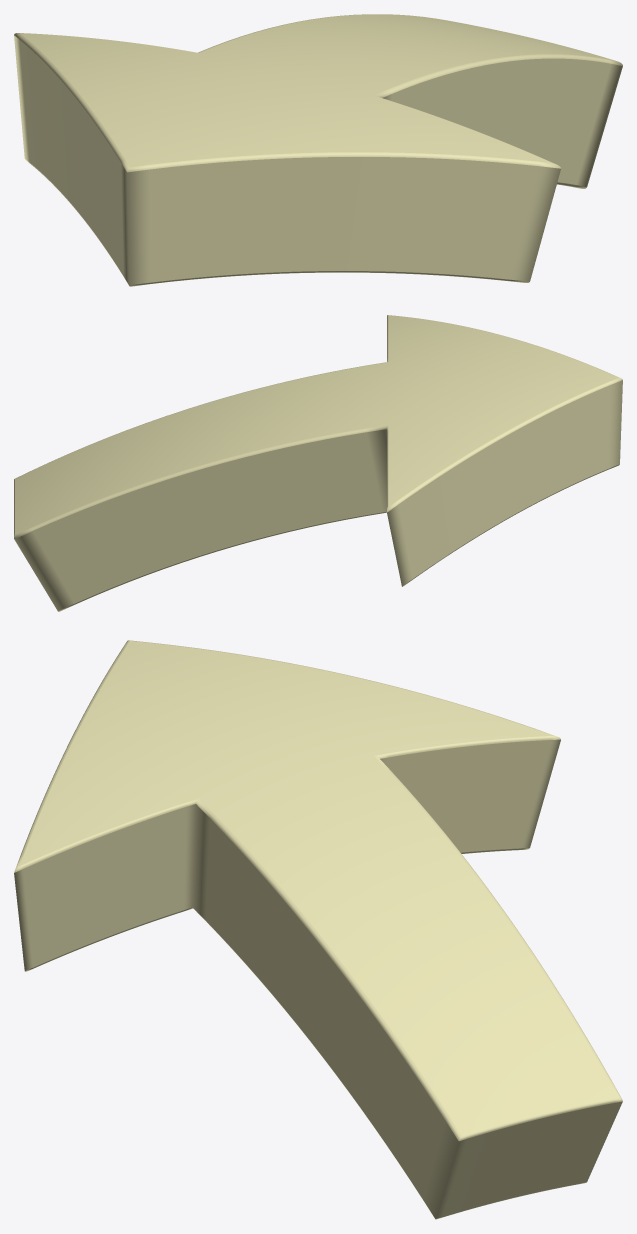
File: arrow.fbx
3 renders of one model, top to bottom at view 1: azimuth 30°, elevation 25°; view 2: azimuth 150°, elevation 25°; view 3: azimuth 270°, elevation 25°, orthographic. The views are drawn at different scales.
Parts seen in each view (by area): view 1: arrow1, Deckf1, Rundu3, Rundu1; view 2: arrow1, Deckf1, Rundu3, Rundu1; view 3: Deckf1, arrow1, Rundu3, Rundu1.
Boxes of the visible parts, <box> form: arrow1: <box>14,35,622,285</box>; Deckf1: <box>20,14,616,167</box>; Rundu3: <box>14,14,622,172</box>; Rundu1: <box>25,159,586,286</box>; arrow1: <box>14,380,622,610</box>; Deckf1: <box>15,315,618,534</box>; Rundu3: <box>14,315,622,539</box>; Rundu1: <box>58,464,619,611</box>; Deckf1: <box>20,641,618,1135</box>; arrow1: <box>14,739,622,1218</box>; Rundu3: <box>14,640,622,1141</box>; Rundu1: <box>25,848,586,1219</box>.
Size of the model in its own units: 1.21 by 0.494 by 0.9645.
